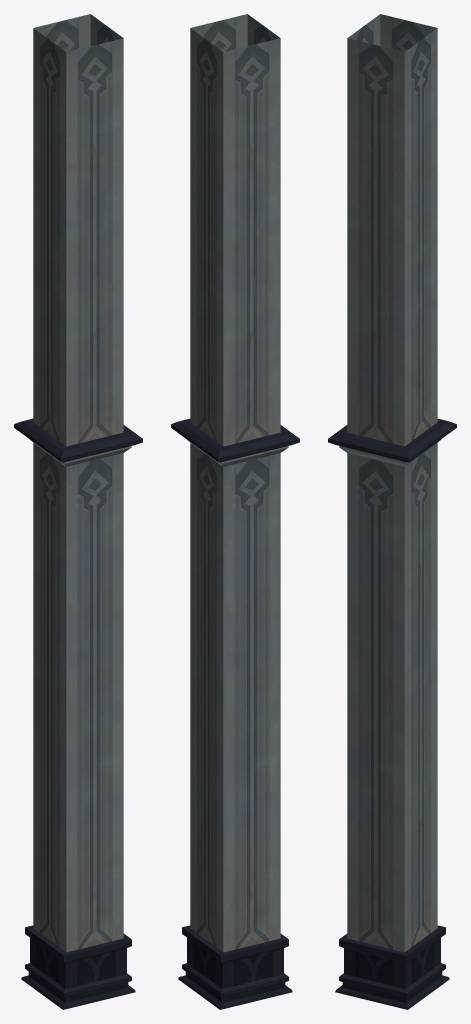
The model's file is Indoor_Mdprops_Church_Squate01_Vo_902_0.fbx.
The picture shows the model from 3 angles, left to right: view 1: azimuth 30°, elevation 25°; view 2: azimuth 210°, elevation 25°; view 3: azimuth 330°, elevation 25°; orthographic projection.
Visible parts, largest first — view 1: Indoor_Mdprops_Church_Squate01_Vo_902_0; view 2: Indoor_Mdprops_Church_Squate01_Vo_902_0; view 3: Indoor_Mdprops_Church_Squate01_Vo_902_0.
Boxes of the visible parts, x1,y1,x2,y2 form: Indoor_Mdprops_Church_Squate01_Vo_902_0: (14,14,142,1009); Indoor_Mdprops_Church_Squate01_Vo_902_0: (171,14,299,1009); Indoor_Mdprops_Church_Squate01_Vo_902_0: (328,14,456,1009).
Size of the model in its own units: 2.16 by 24.14 by 2.16.
